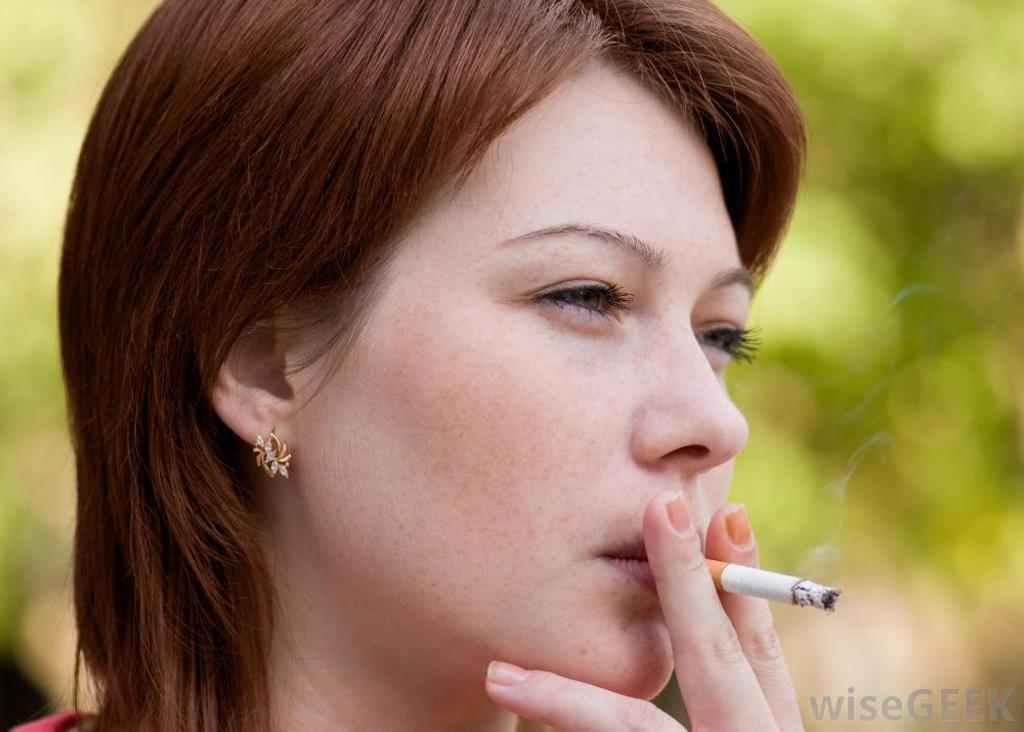face: (295, 55, 751, 697)
